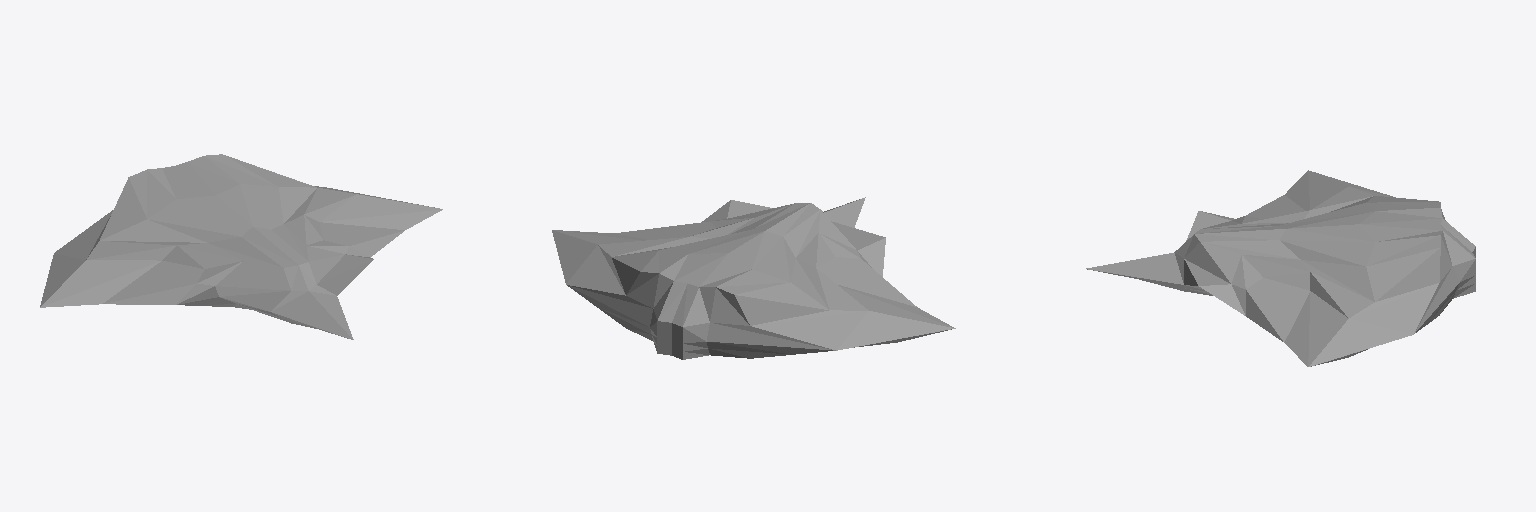
File: Bobcat.obj
3 renders of one model, left to right at view 1: azimuth 30°, elevation 25°; view 2: azimuth 150°, elevation 25°; view 3: azimuth 270°, elevation 25°, orthographic.
Parts seen in each view (by area): view 1: Cube; view 2: Cube; view 3: Cube.
Boxes of the visible parts, x1,y1,x2,y2 form: Cube: [40, 154, 442, 339]; Cube: [552, 197, 955, 359]; Cube: [1086, 170, 1475, 366].
Size of the model in its own units: 8.61 by 1.41 by 7.22.